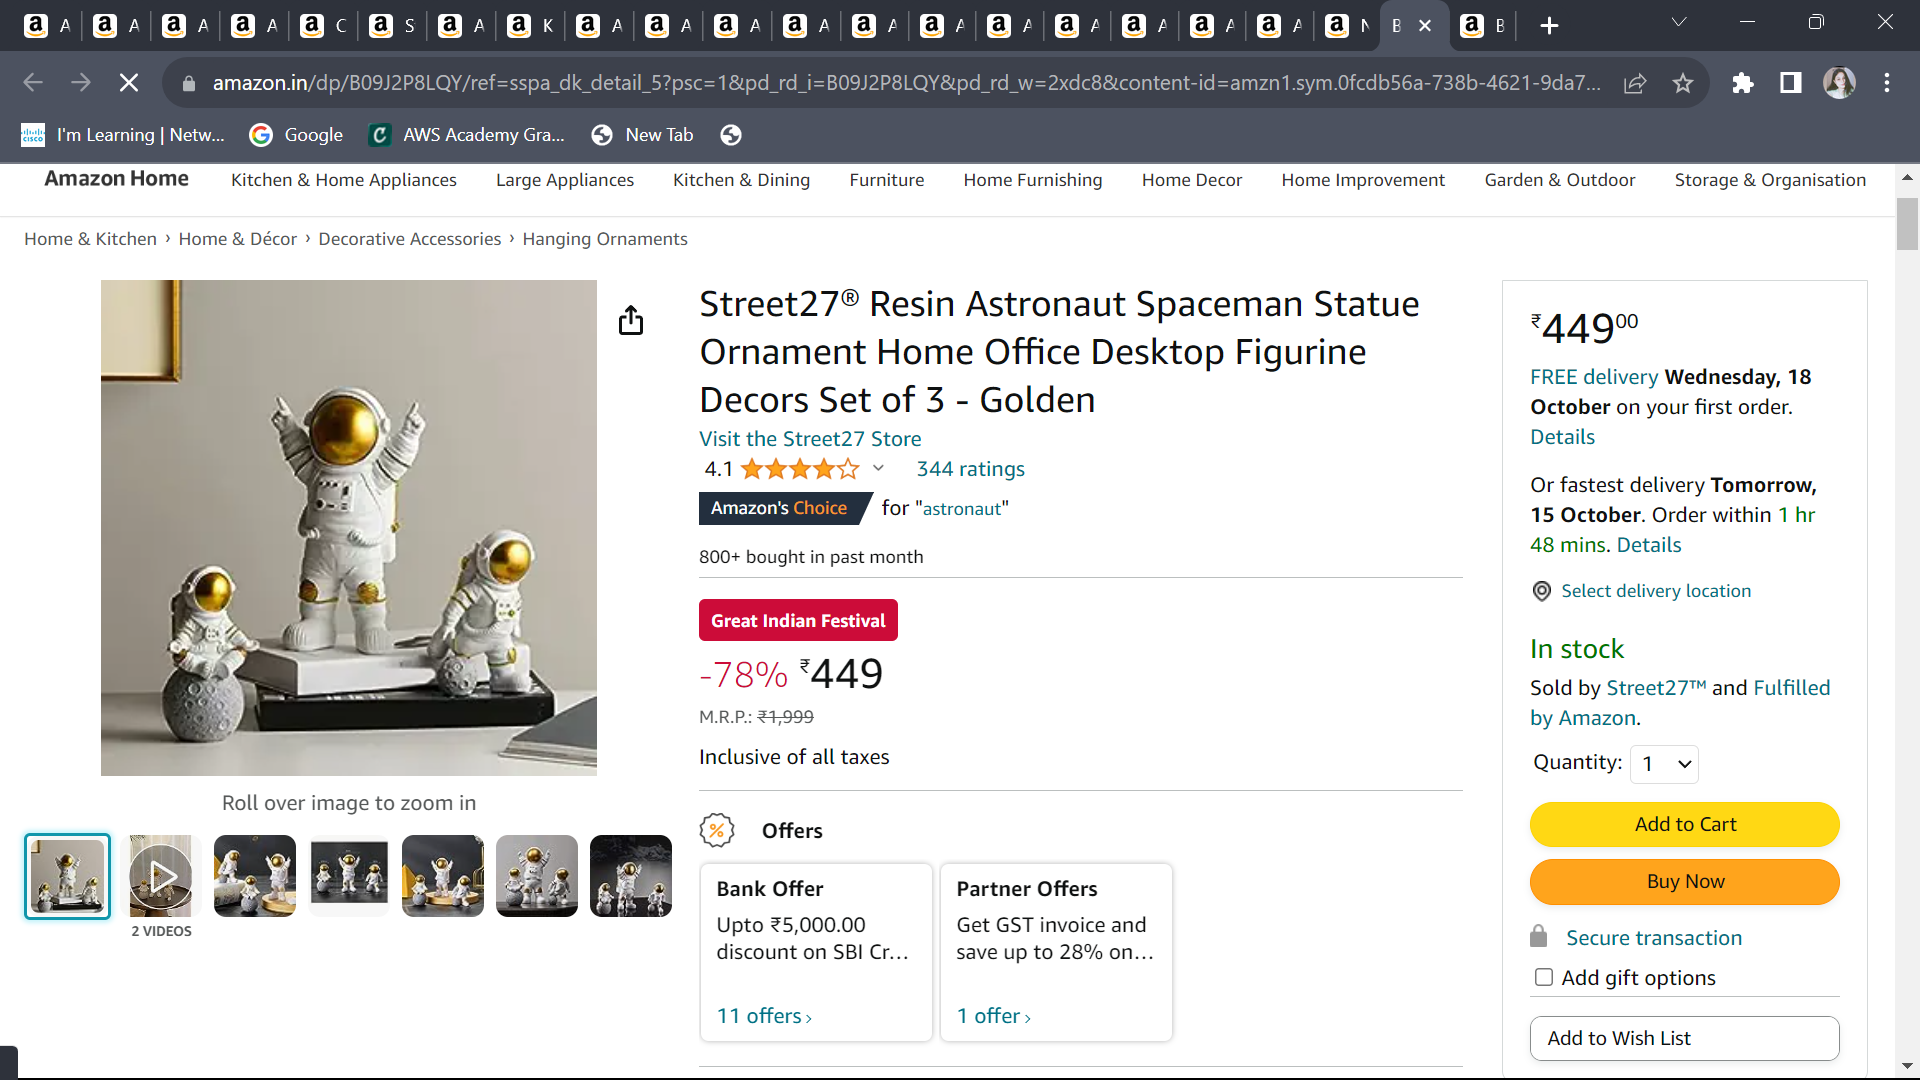Image: (59, 286, 609, 782)
Paragraph: (690, 794, 1207, 1021), (692, 262, 1455, 411), (1505, 364, 1857, 576), (1509, 926, 1866, 1069), (1544, 789, 1863, 895), (696, 418, 1058, 501), (1516, 669, 1851, 753), (7, 215, 725, 248), (702, 645, 919, 749), (699, 520, 956, 574), (1516, 298, 1698, 368), (1520, 579, 1774, 607), (1505, 746, 1698, 782), (669, 749, 928, 773), (1516, 636, 1651, 666), (1362, 696, 1457, 723)
